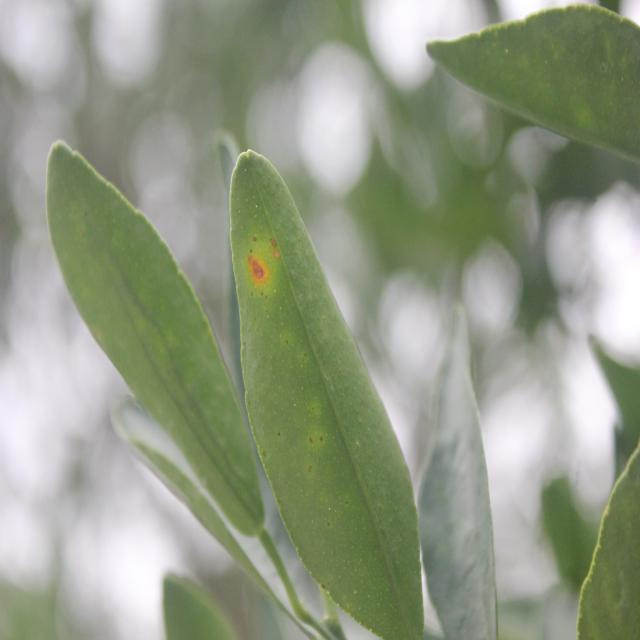canker: (235, 189, 318, 344)
